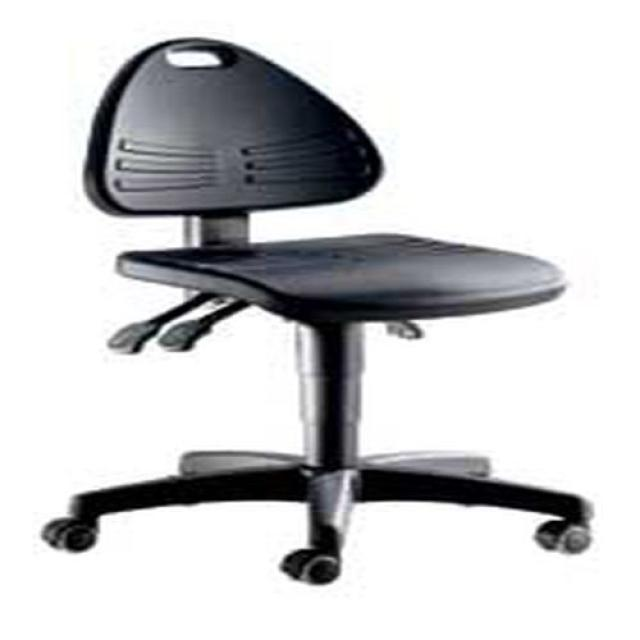swivelchair: (42, 37, 594, 589)
